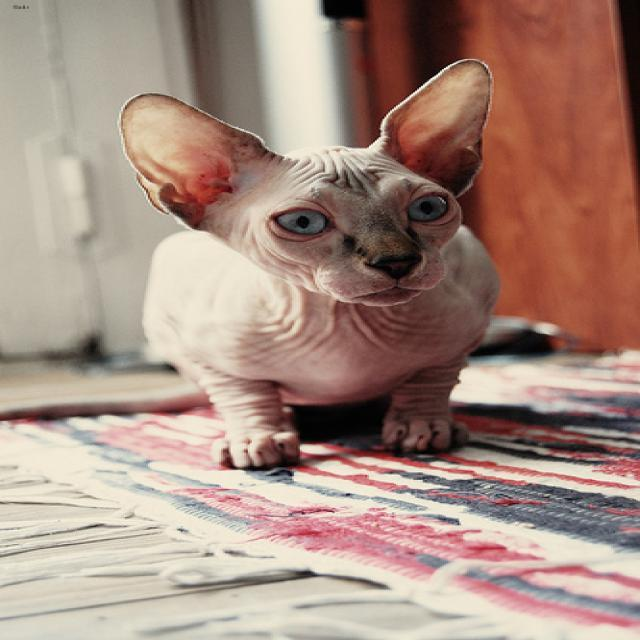Sphynx: (117, 58, 488, 304)
